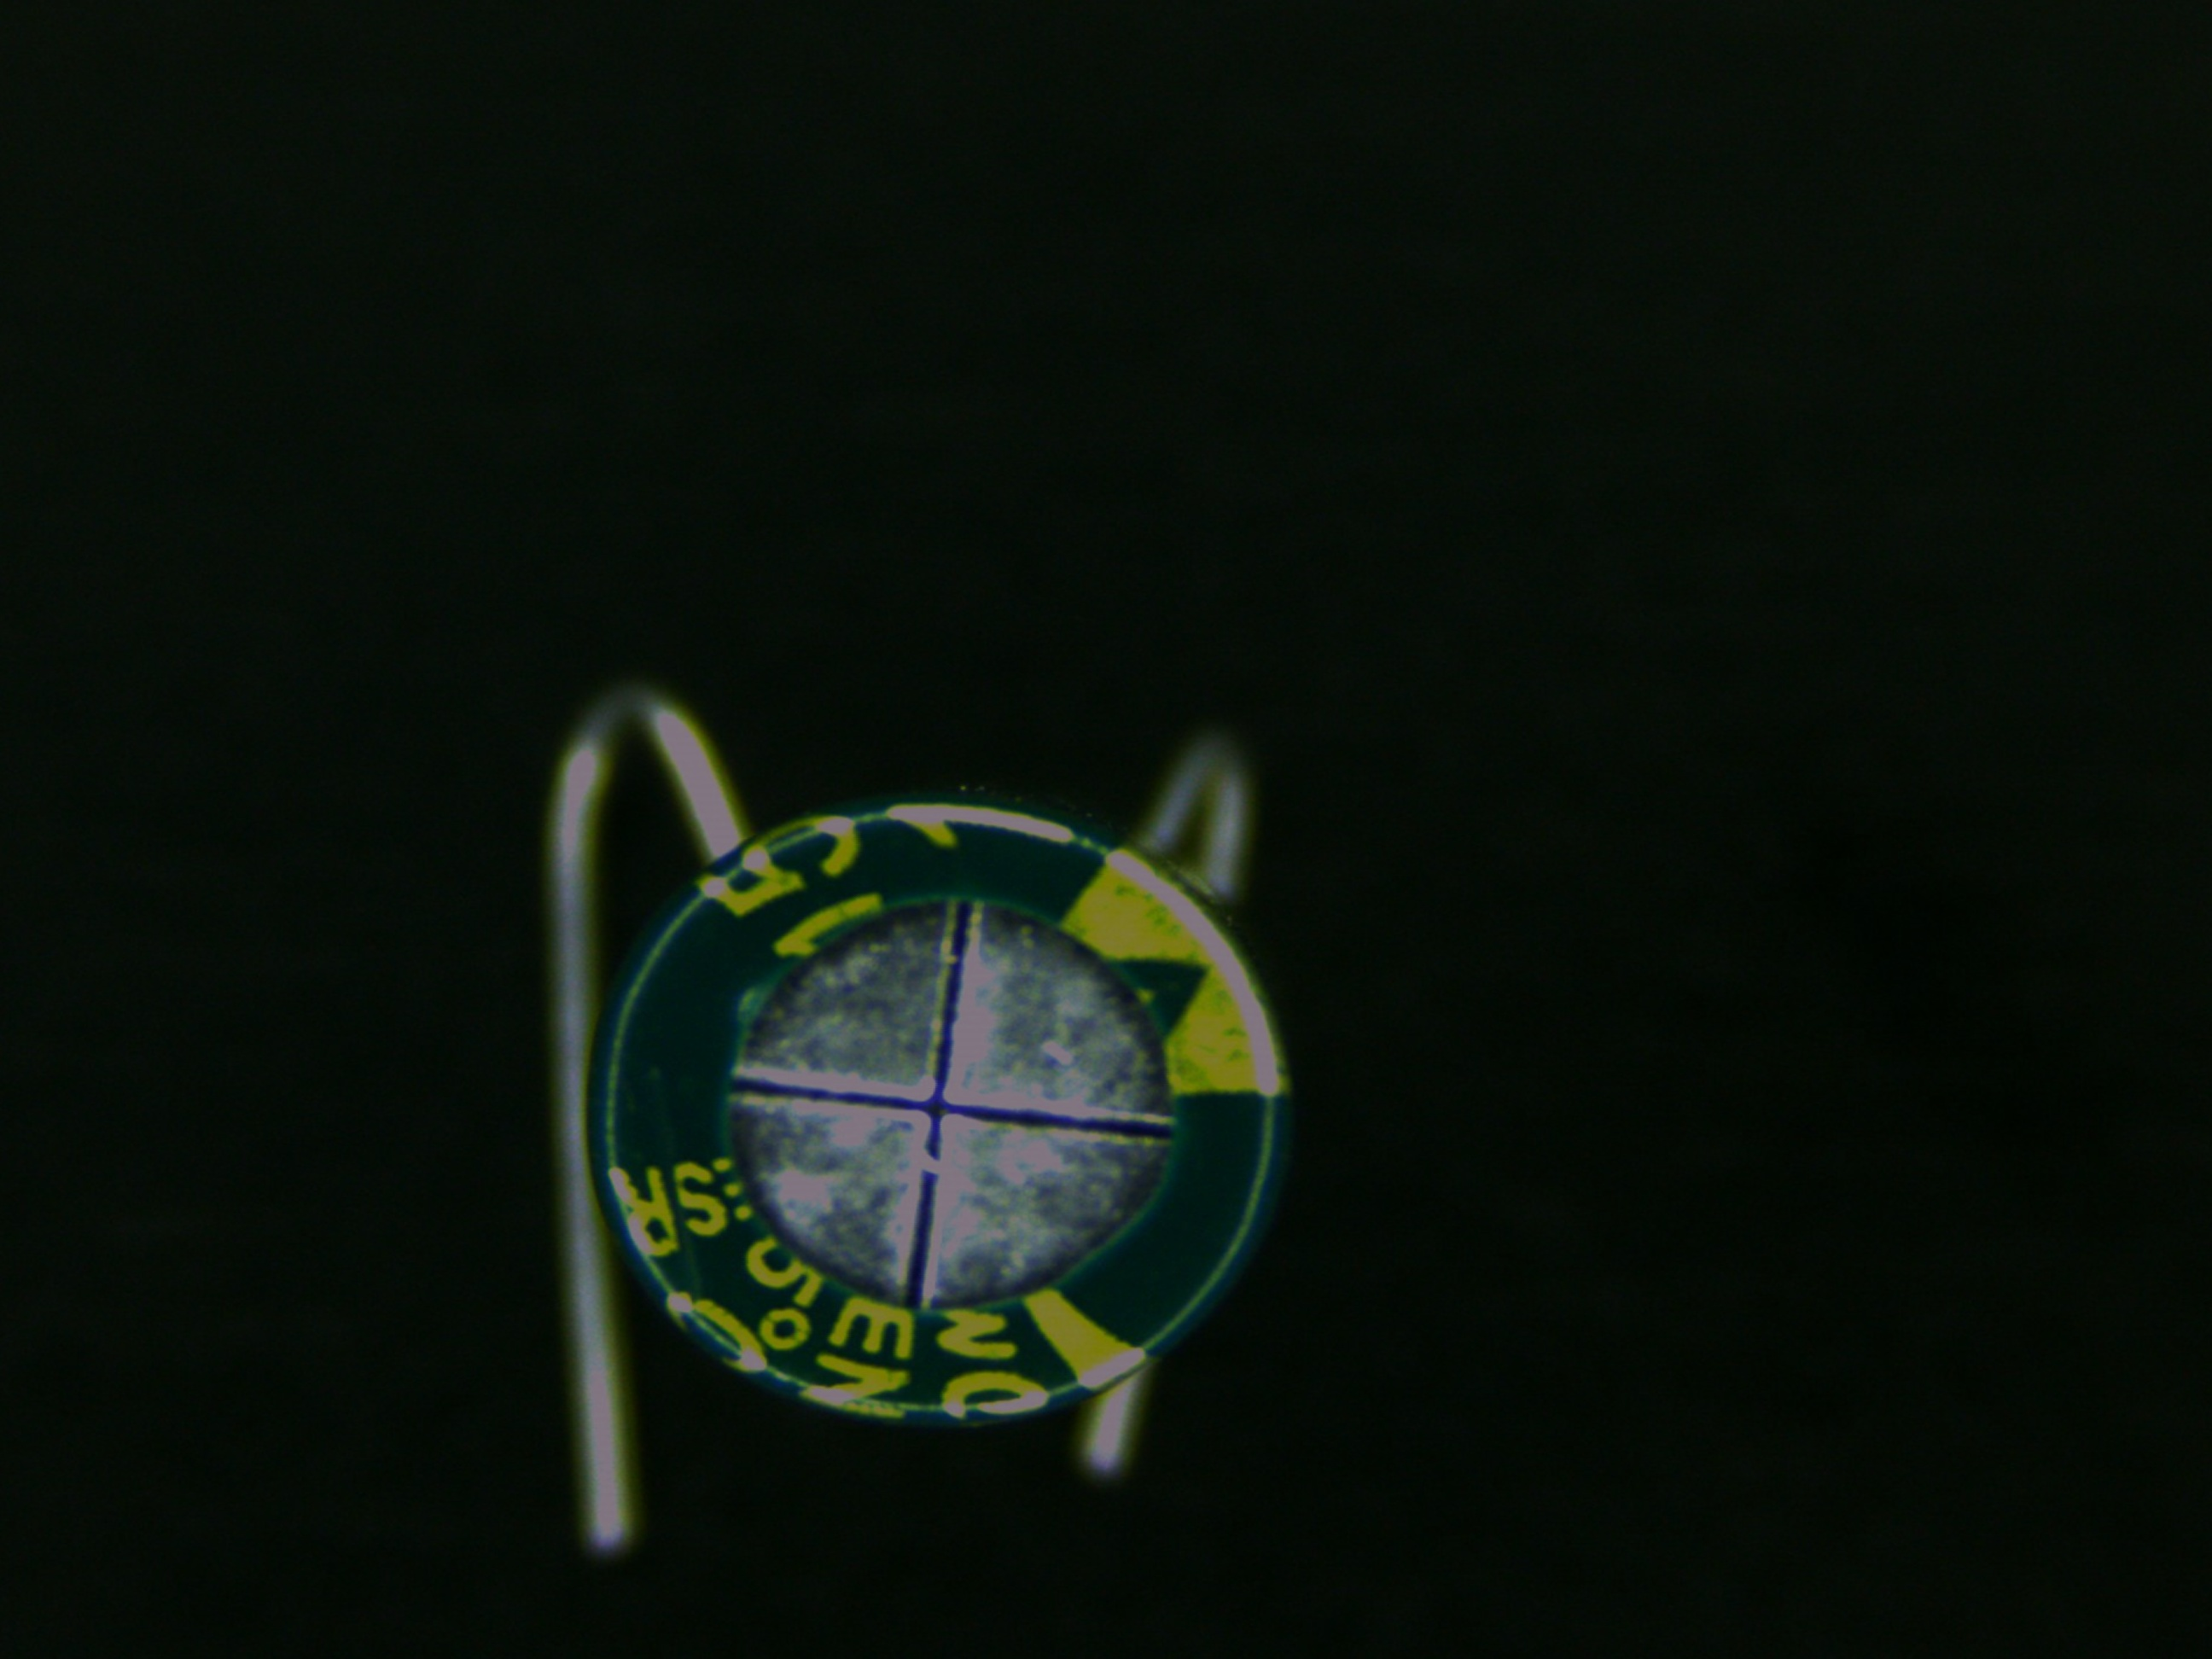c1: (585, 791, 1284, 1431)
